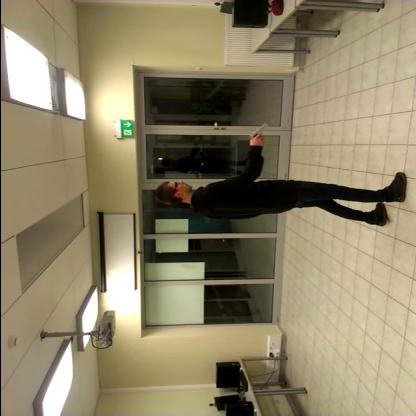Pistol: (243, 118, 275, 144)
